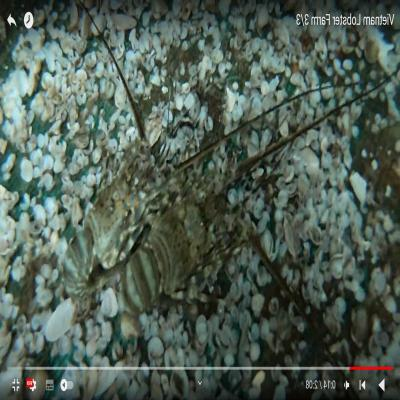lobster: (120, 184, 234, 326)
